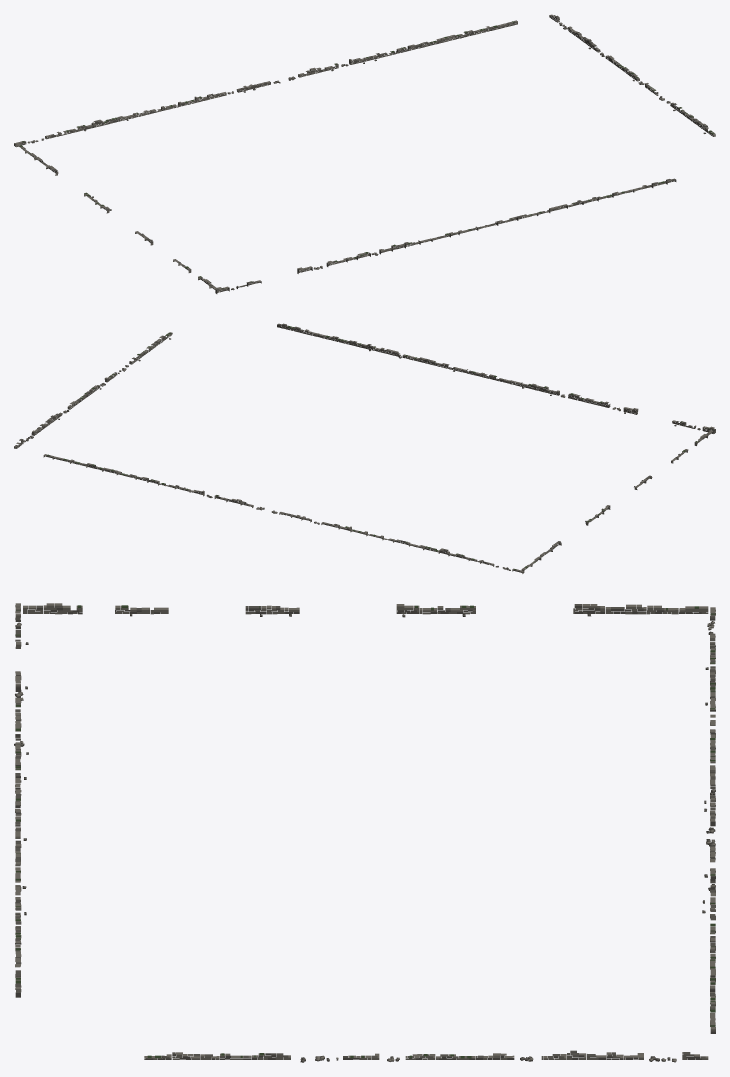
File: hg-woods.glb
The picture shows the model from 3 angles, top to bottom: view 1: azimuth 30°, elevation 25°; view 2: azimuth 150°, elevation 25°; view 3: azimuth 270°, elevation 25°; orthographic projection. The views are drawn at different scales.
Parts seen in each view (by area): view 1: hg-woods; view 2: hg-woods; view 3: hg-woods.
Boxes of the visible parts, x1,y1,x2,y2 form: hg-woods: [14, 14, 715, 293]; hg-woods: [14, 323, 715, 573]; hg-woods: [14, 603, 715, 1062].
Bounding box in the file's own units: 140 × 1.35 × 92.15.
